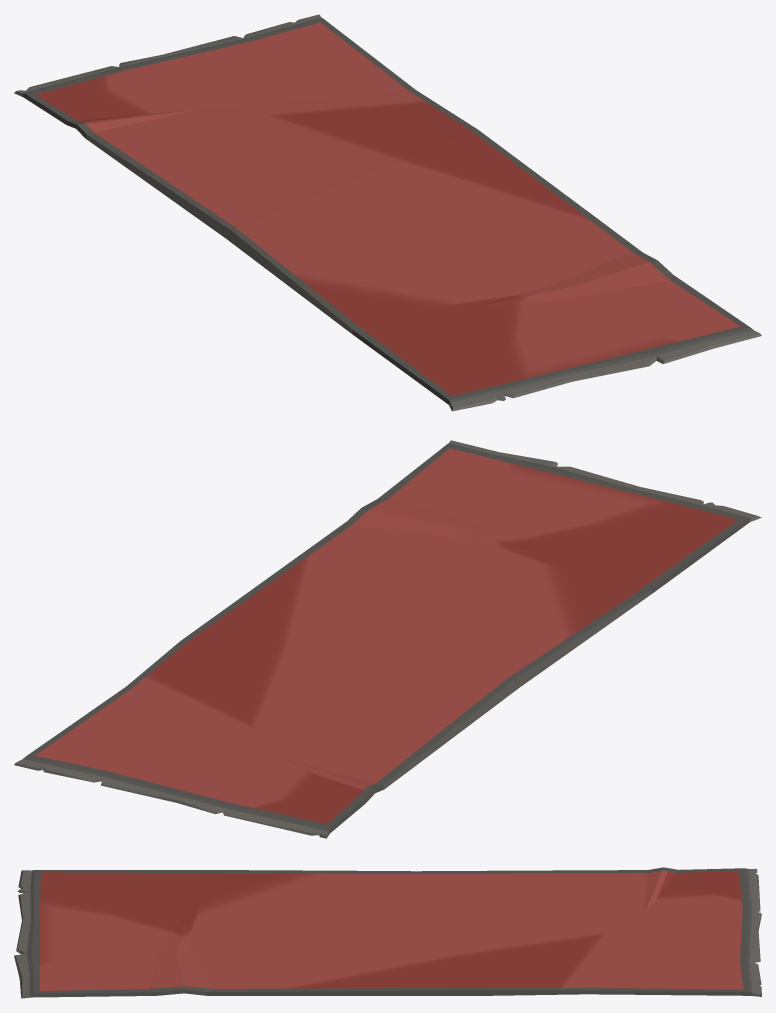
File: SM_Prop_Rug_03.fbx
The picture shows the model from 3 angles, top to bottom: view 1: azimuth 30°, elevation 25°; view 2: azimuth 150°, elevation 25°; view 3: azimuth 270°, elevation 25°; orthographic projection. The views are drawn at different scales.
Parts seen in each view (by area): view 1: SM_Prop_Rug_03; view 2: SM_Prop_Rug_03; view 3: SM_Prop_Rug_03.
Part boxes in pixels (bbox=[...]): SM_Prop_Rug_03: bbox=[14, 14, 761, 411]; SM_Prop_Rug_03: bbox=[14, 440, 761, 838]; SM_Prop_Rug_03: bbox=[14, 867, 761, 998].
Size of the model in its own units: 251 by 5.33 by 616.
